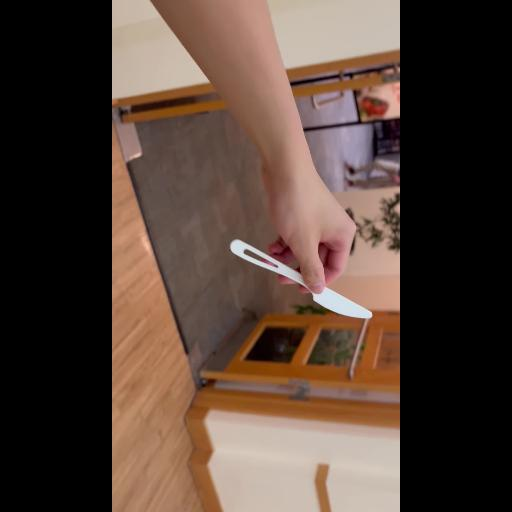utensil: (218, 206, 382, 380)
